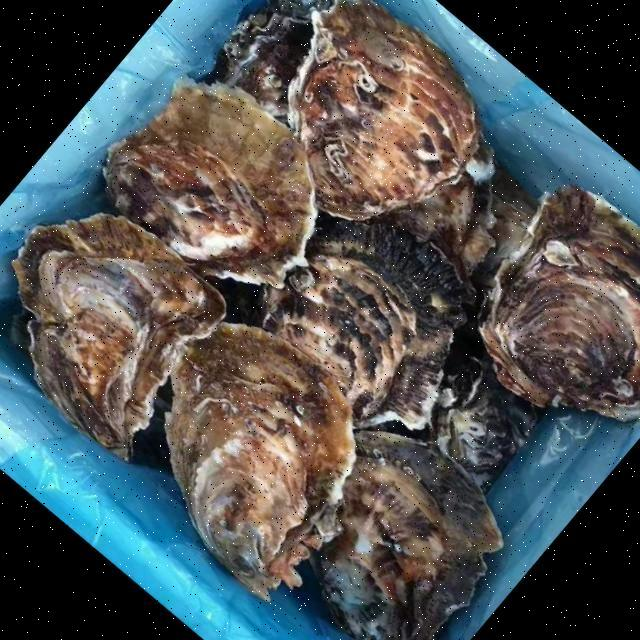Oyster-Closed: (166, 322, 355, 599), (12, 214, 225, 458), (104, 84, 316, 287), (289, 0, 481, 219), (276, 218, 465, 430), (311, 431, 502, 640), (480, 186, 640, 420), (378, 135, 495, 277), (431, 340, 538, 489), (208, 0, 333, 123), (472, 164, 550, 272)
